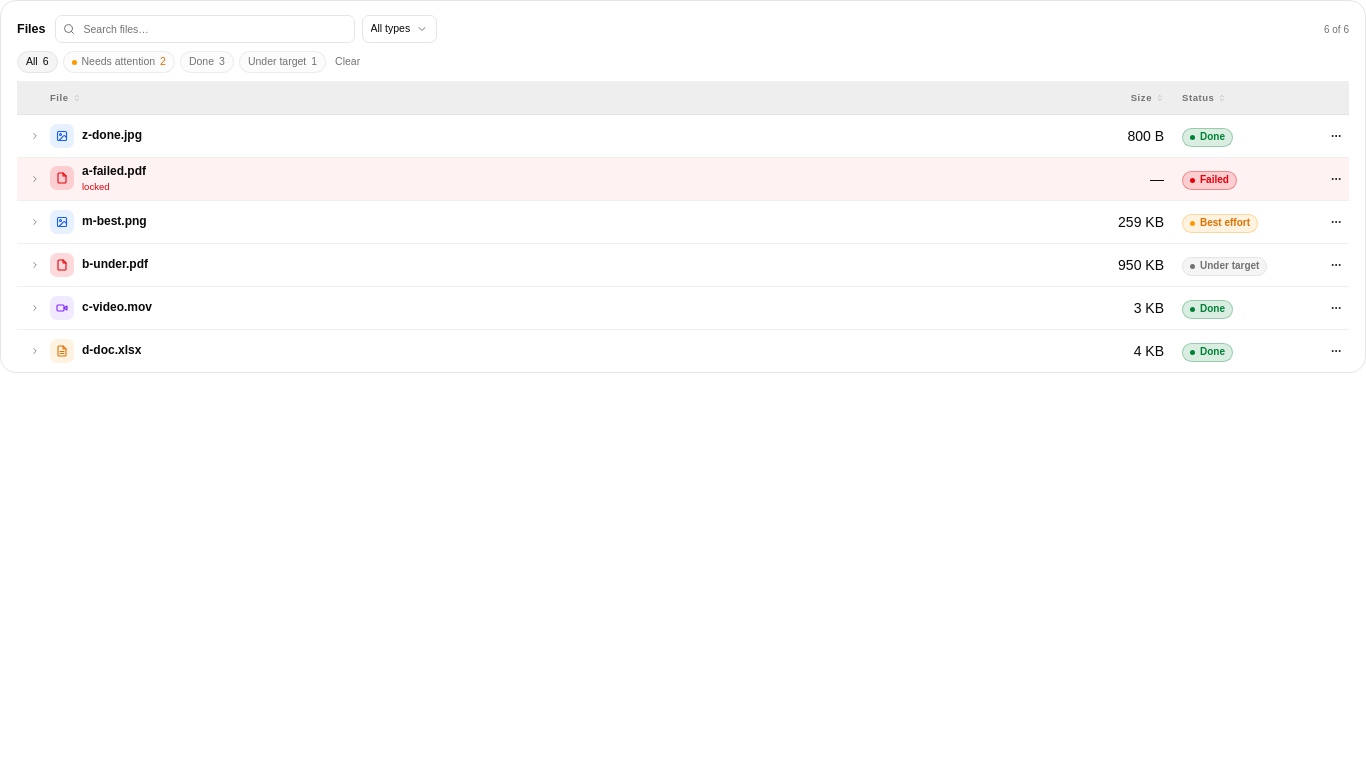
it: HistoryFilesTable › closes the detail when its row is filtered out
Step 1. Click the button named "Expand m-best.png" → (34, 222), box [26,213,43,230]
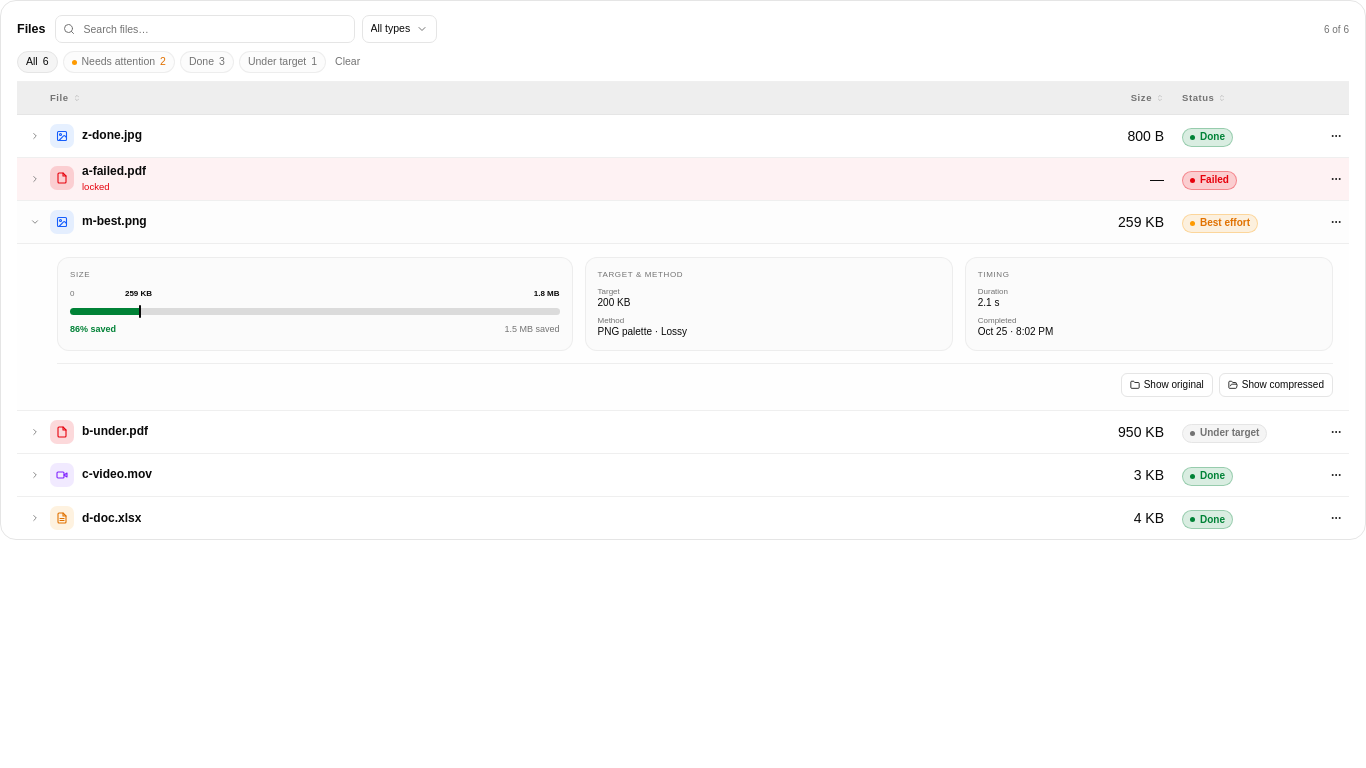
Result: the element with test id "history-file-detail" is shown at [17,244,1349,410]
Step 2. Type "zzz" into the search field labelled "Search files" → (204, 29), box [54,15,354,43]
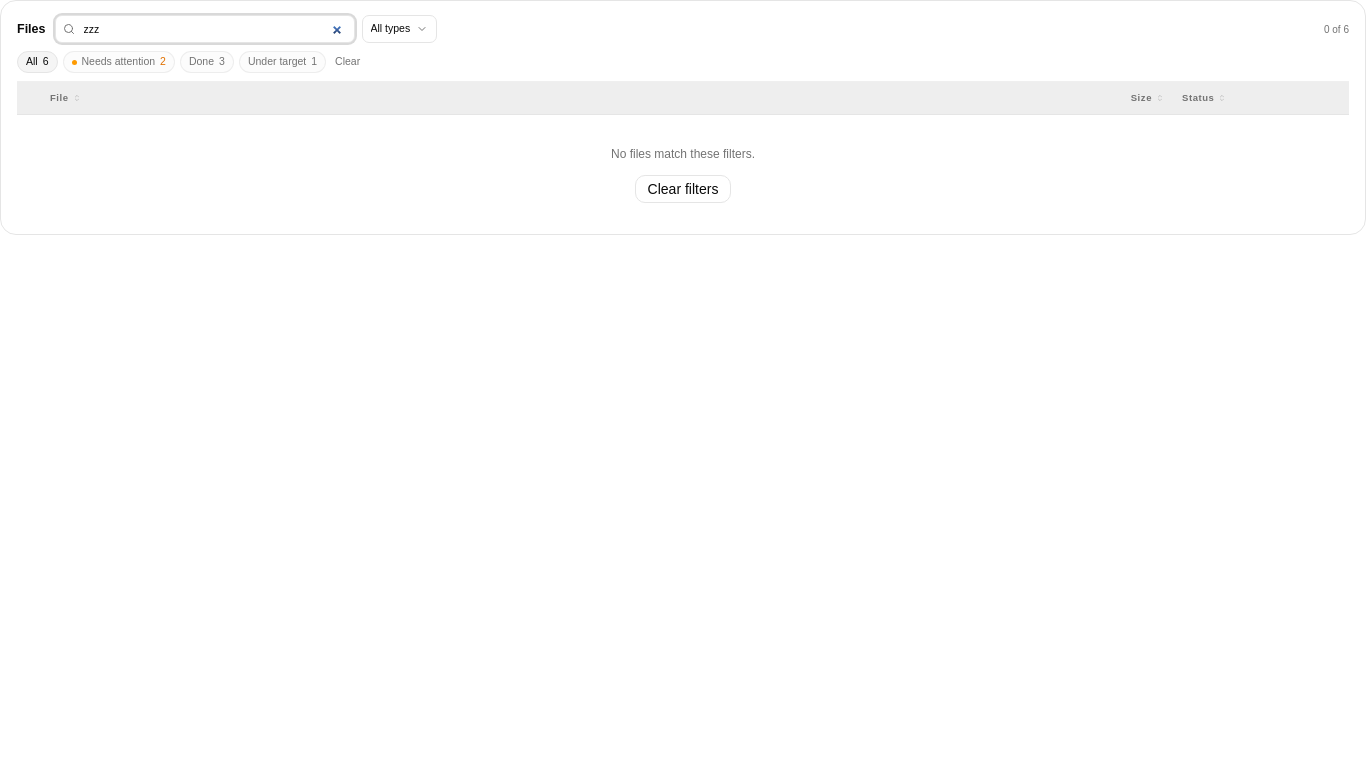
Result: the element with test id "history-file-detail" is gone
